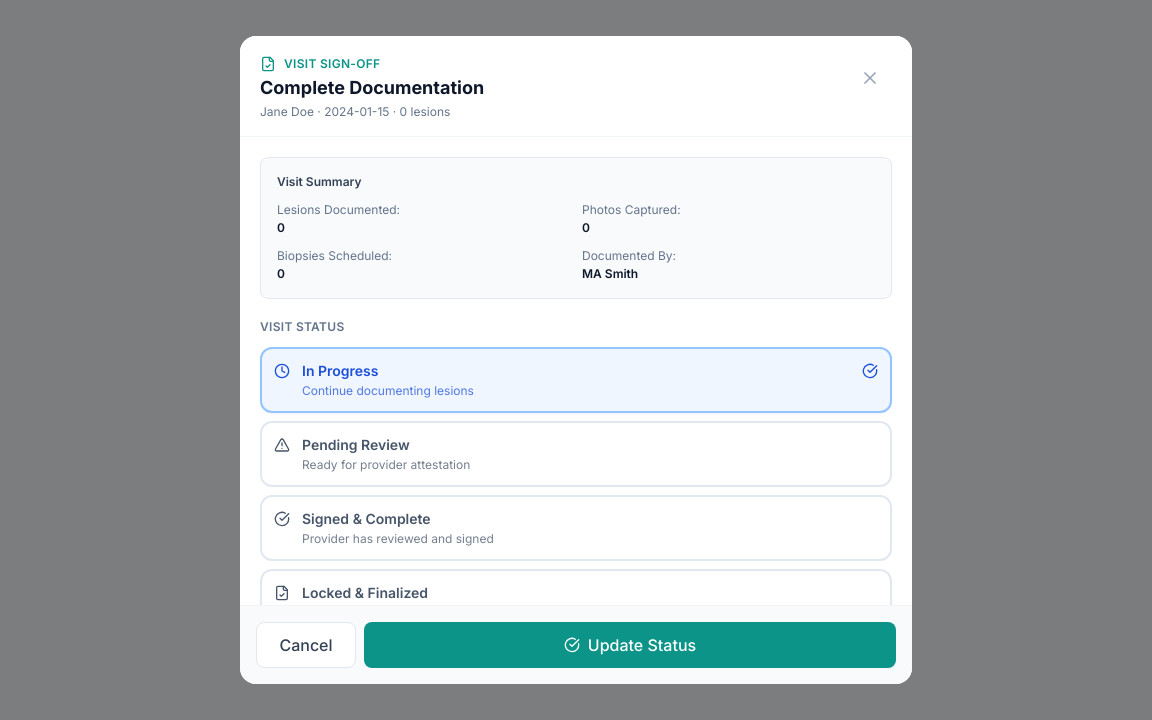
it: VisitSignOffModal › disables update button without attestation for signed status
# Select signed status but don't attest
Click the button "Signed & Complete Provider has reviewed and signed" at (366, 518), box x1=260 y1=495 x2=892 y2=561
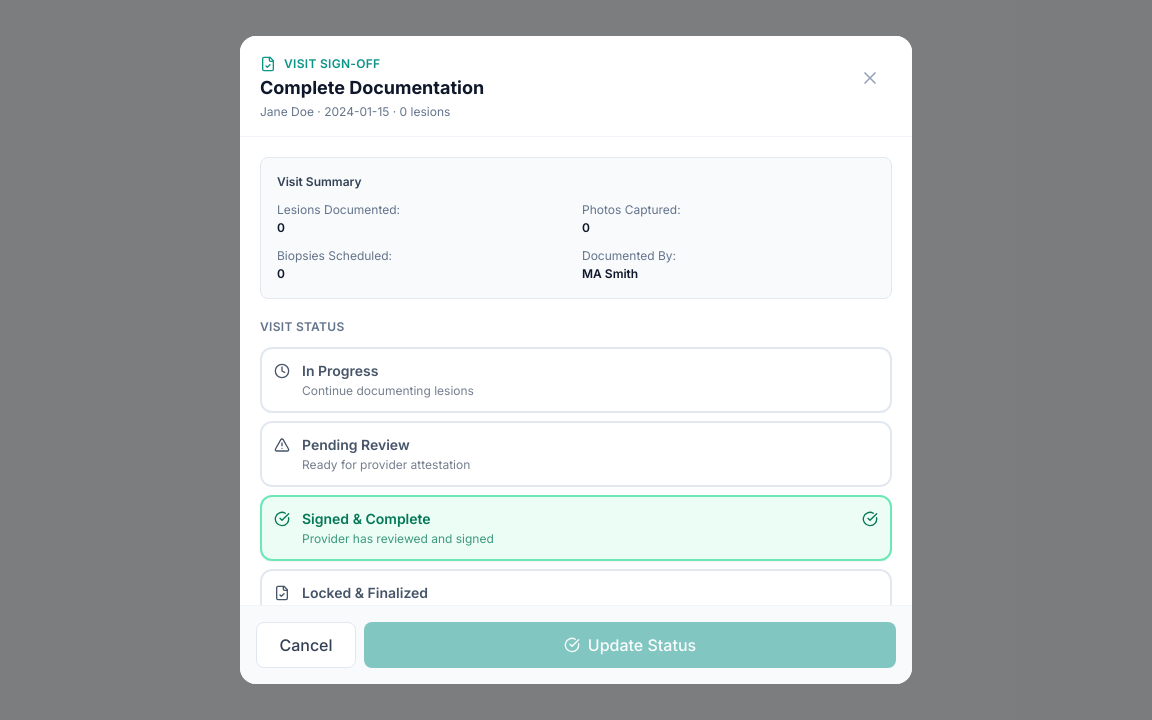
expect the button "Update Status" is disabled: met, box x1=364 y1=622 x2=896 y2=668
